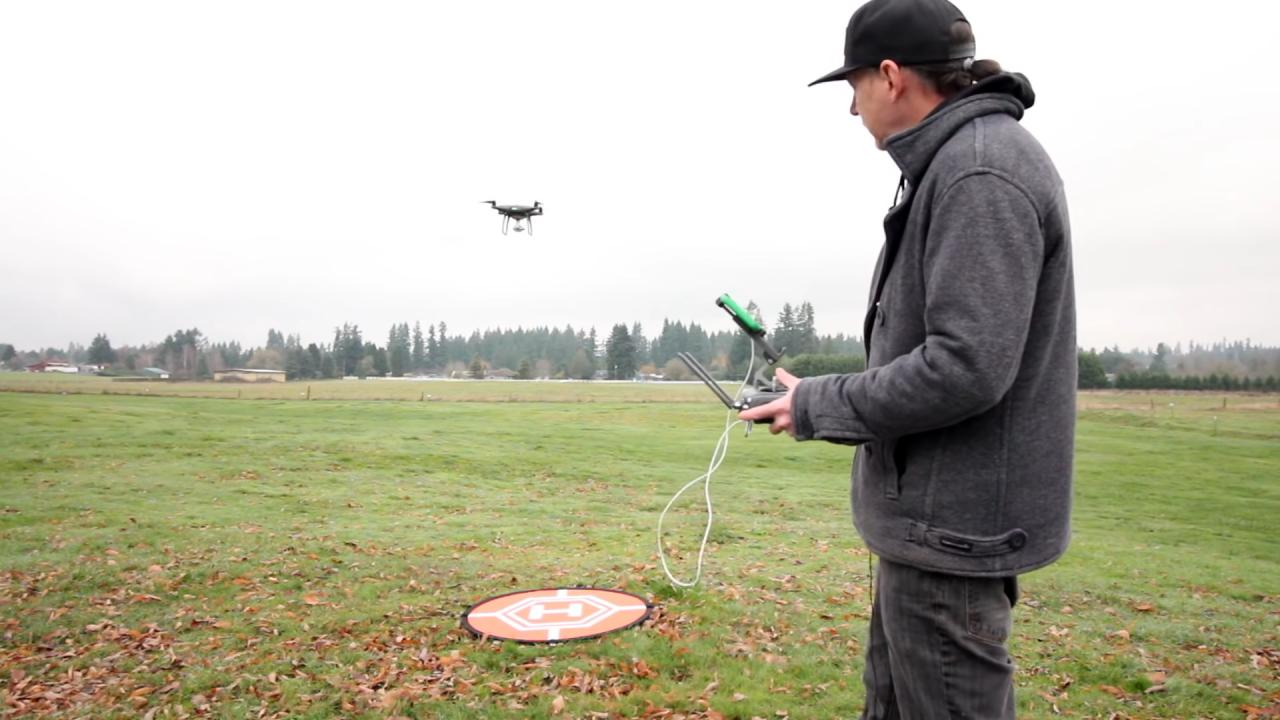Drone: (478, 189, 558, 246)
